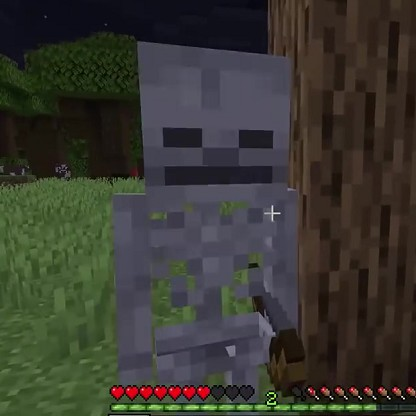skeleton: (115, 39, 301, 380)
